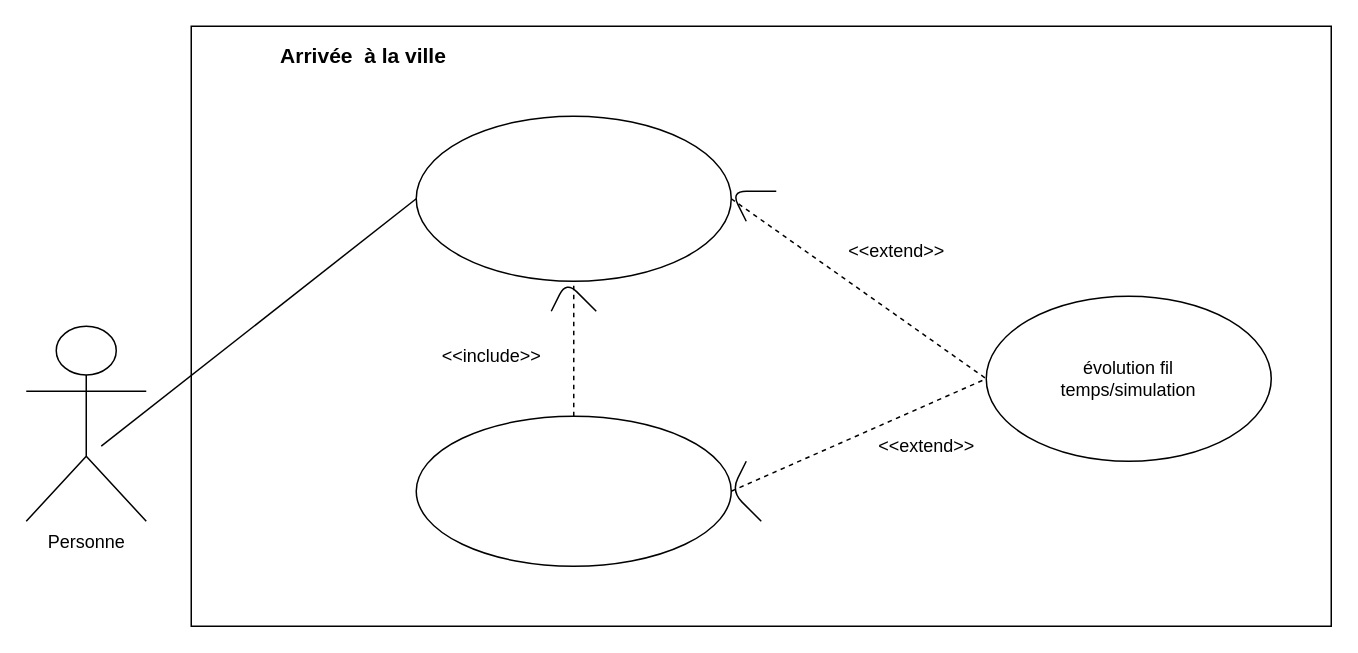
This 1358x653 diagram has some shape labels left out. The shapes that lost their labels are listed below. From the top down, each one's centre as x and y in pixels, then its label:
At pixel 573 198: "déplacer dans la ville".
At pixel 573 490: "effectuer des actions".
